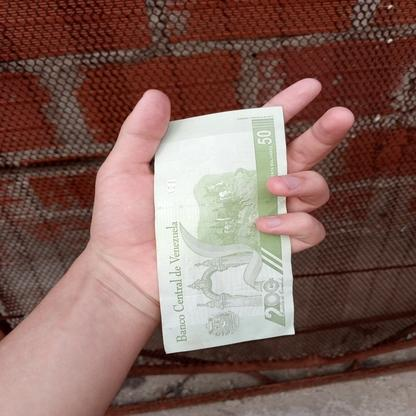fifty-back-vef: (154, 106, 294, 354)
